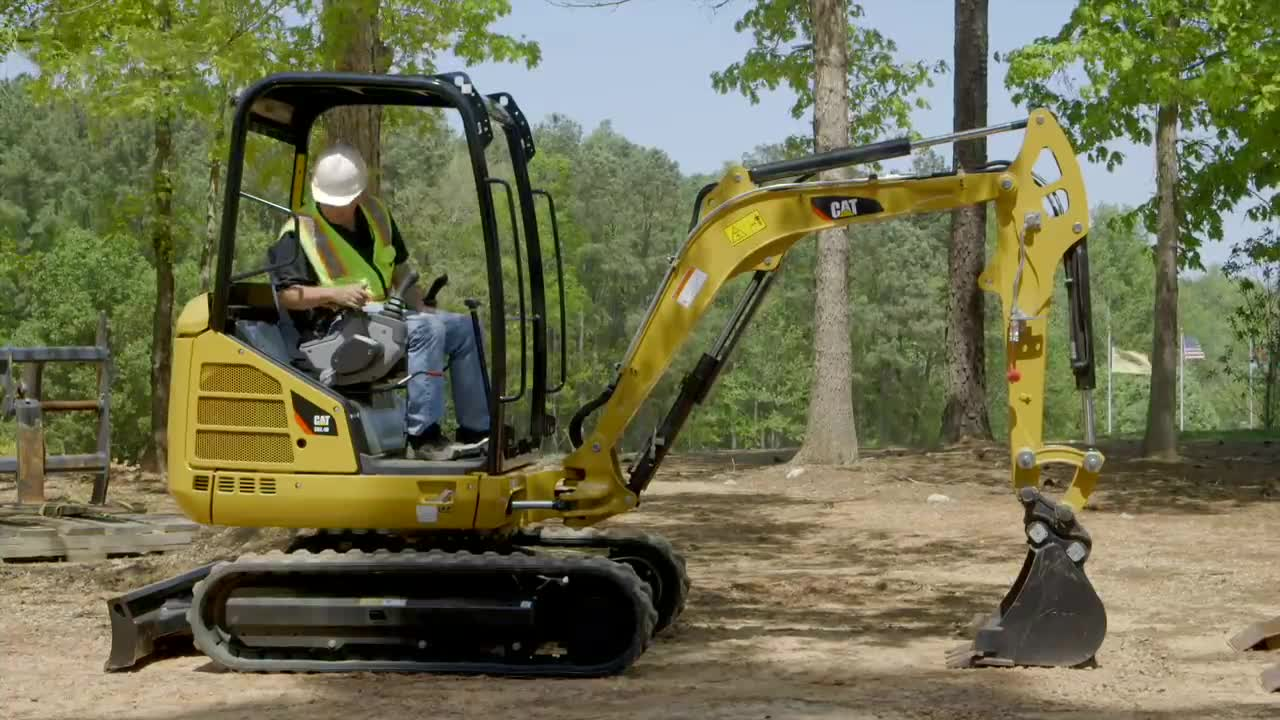attachment-bucket: (947, 498, 1119, 686)
cabin: (168, 70, 569, 525)
forearm: (984, 107, 1090, 512)
upperarm: (568, 170, 1016, 485)
wheelbase: (173, 523, 706, 684)
